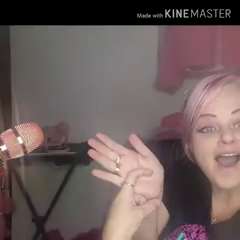R: (76, 129, 167, 240)
